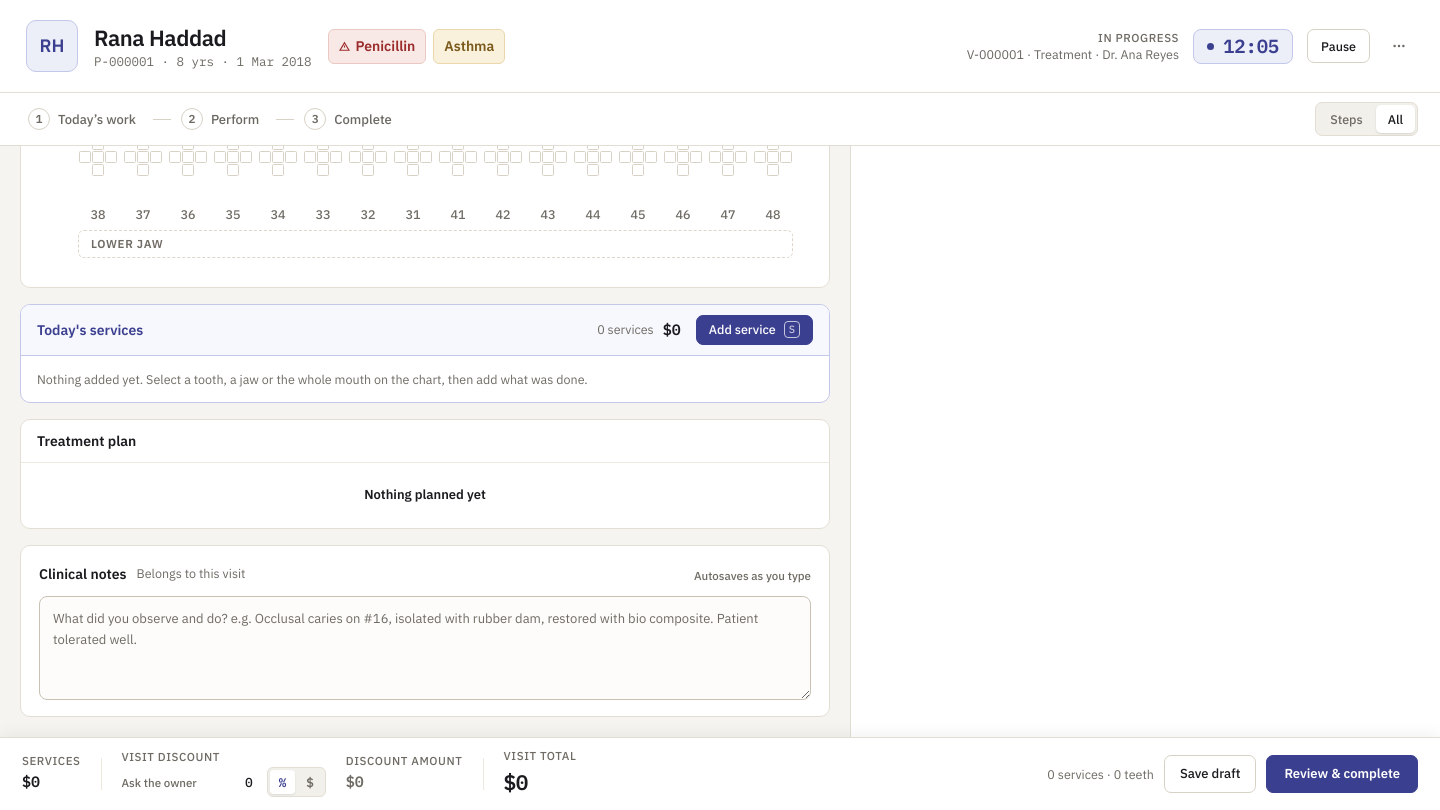
Scenario: NotesCard › hides Discard visit while the notes have unsaved edits
(page scrolled)
Check: the button named "Visit actions" is shown, box [1384,31,1414,61]
Replace the text in the text box labelled "Clinical notes" with "Draft" at [425, 648], box [39,596,811,700]
Wait 700 ms
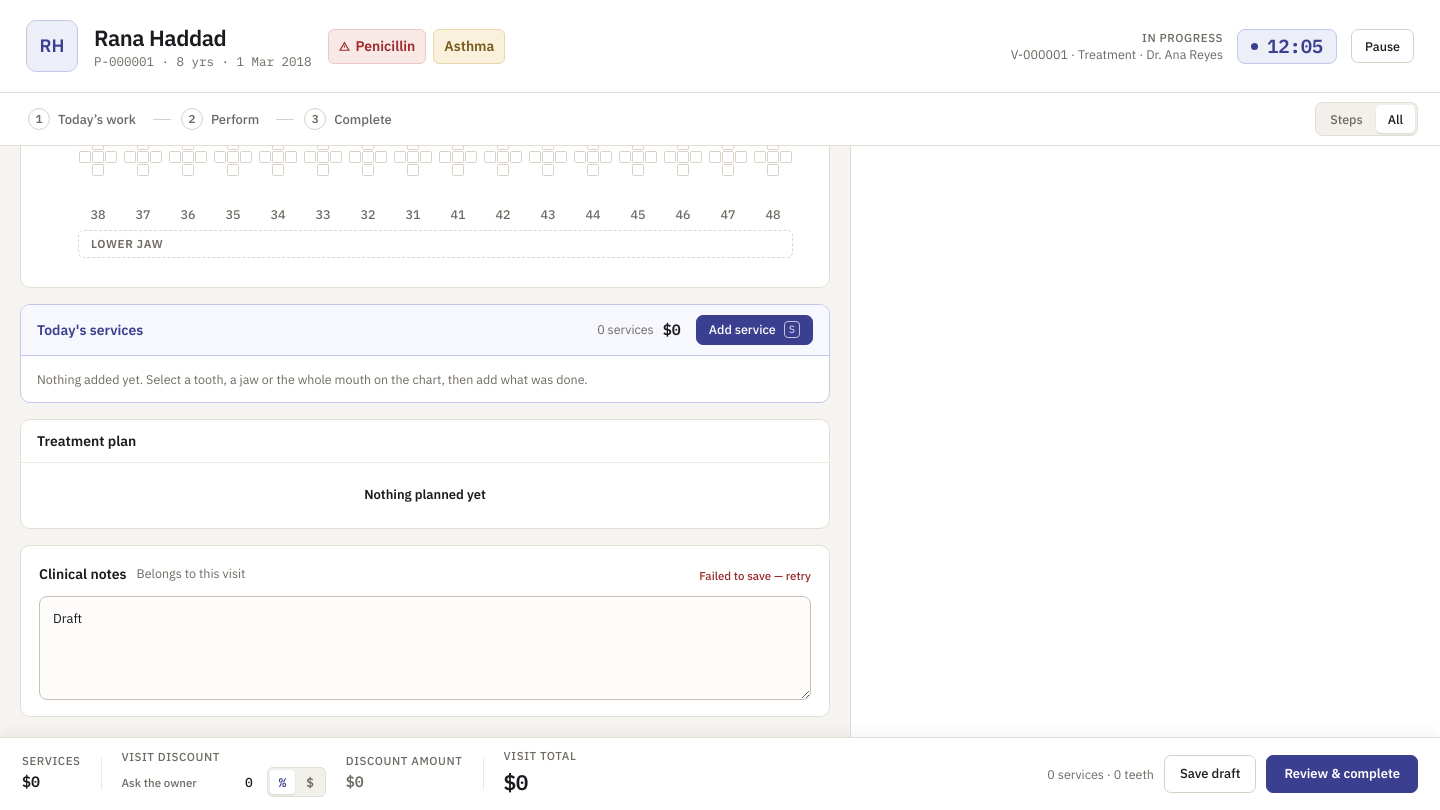
Check: the button "Failed to save — retry" is shown, box [699,570,811,581]
